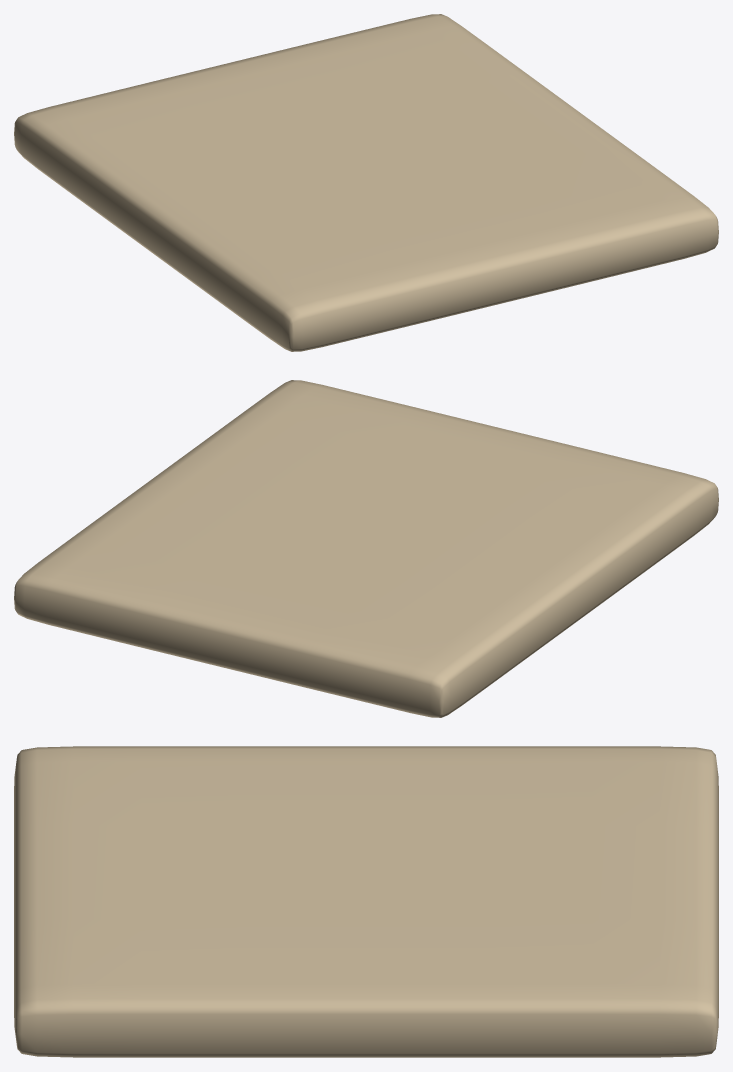
The model's file is Mattress.glb.
The picture shows the model from 3 angles, top to bottom: view 1: azimuth 30°, elevation 25°; view 2: azimuth 150°, elevation 25°; view 3: azimuth 270°, elevation 25°; orthographic projection. The views are drawn at different scales.
Visible parts, largest first — view 1: Mattress; view 2: Mattress; view 3: Mattress.
Boxes of the visible parts, <box> form: Mattress: <box>14,14,718,351</box>; Mattress: <box>14,380,718,717</box>; Mattress: <box>14,746,718,1057</box>.
Size of the model in its own units: 1.9 by 0.1961 by 2.14.
